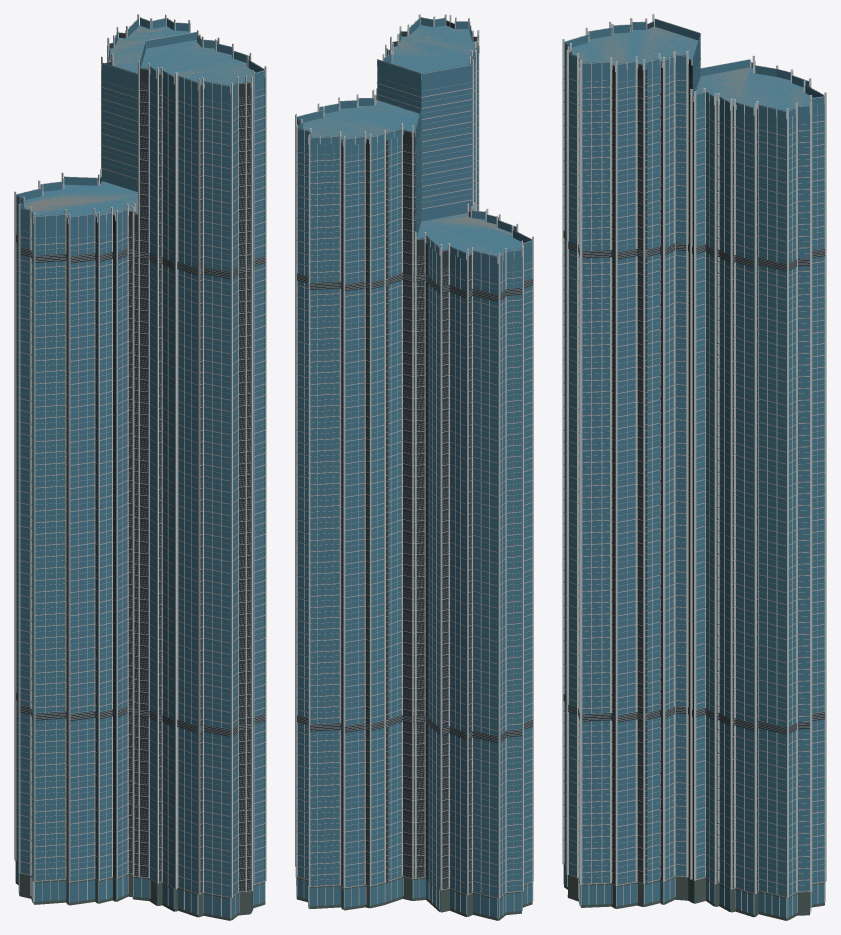
The model's file is bespoke-tower-palace-g.glb.
The picture shows the model from 3 angles, left to right: view 1: azimuth 30°, elevation 25°; view 2: azimuth 150°, elevation 25°; view 3: azimuth 270°, elevation 25°; orthographic projection. The views are drawn at different scales.
Parts seen in each view (by area): view 1: G_04_blue_glazing_and_spandrels_1, G_03_deep_vertical_blade_fins, G_04_blue_glazing_and_spandrels_3, G_02_fine_silver_horizontal_curtainwall, G_04_blue_glazing_and_spandrels_2, G_01_three_unequal_Y_blades, G_06_independent_flat_blade_terminations_4, G_06_independent_flat_blade_terminations_1, G_07_green_stone_glazed_lobby_1, G_05_reentrant_dark_louver_channels_2, G_07_green_stone_glazed_lobby_3, G_05_reentrant_dark_louver_channels_1 (+2 smaller); view 2: G_04_blue_glazing_and_spandrels_1, G_03_deep_vertical_blade_fins, G_04_blue_glazing_and_spandrels_3, G_02_fine_silver_horizontal_curtainwall, G_04_blue_glazing_and_spandrels_2, G_01_three_unequal_Y_blades, G_05_reentrant_dark_louver_channels_2, G_06_independent_flat_blade_terminations_1, G_07_green_stone_glazed_lobby_1, G_06_independent_flat_blade_terminations_4, G_05_reentrant_dark_louver_channels_1, G_07_green_stone_glazed_lobby_3 (+2 smaller); view 3: G_04_blue_glazing_and_spandrels_1, G_03_deep_vertical_blade_fins, G_02_fine_silver_horizontal_curtainwall, G_04_blue_glazing_and_spandrels_2, G_04_blue_glazing_and_spandrels_3, G_01_three_unequal_Y_blades, G_05_reentrant_dark_louver_channels_2, G_06_independent_flat_blade_terminations_4, G_06_independent_flat_blade_terminations_1, G_07_green_stone_glazed_lobby_1, G_07_green_stone_glazed_lobby_3, G_05_reentrant_dark_louver_channels_1 (+2 smaller).
Boxes of the visible parts, left/top/right/bottom form: G_04_blue_glazing_and_spandrels_1: left=16, top=25, right=264, bottom=897; G_03_deep_vertical_blade_fins: left=14, top=14, right=266, bottom=897; G_04_blue_glazing_and_spandrels_3: left=66, top=37, right=250, bottom=893; G_02_fine_silver_horizontal_curtainwall: left=16, top=81, right=265, bottom=897; G_04_blue_glazing_and_spandrels_2: left=16, top=86, right=264, bottom=897; G_01_three_unequal_Y_blades: left=21, top=25, right=258, bottom=920; G_06_independent_flat_blade_terminations_4: left=24, top=26, right=254, bottom=219; G_06_independent_flat_blade_terminations_1: left=16, top=18, right=264, bottom=223; G_07_green_stone_glazed_lobby_1: left=16, top=862, right=264, bottom=917; G_05_reentrant_dark_louver_channels_2: left=16, top=57, right=265, bottom=736; G_07_green_stone_glazed_lobby_3: left=15, top=861, right=265, bottom=920; G_05_reentrant_dark_louver_channels_1: left=16, top=236, right=264, bottom=735; G_04_blue_glazing_and_spandrels_1: left=297, top=25, right=532, bottom=896; G_03_deep_vertical_blade_fins: left=295, top=14, right=533, bottom=898; G_04_blue_glazing_and_spandrels_3: left=341, top=25, right=474, bottom=893; G_02_fine_silver_horizontal_curtainwall: left=297, top=70, right=532, bottom=898; G_04_blue_glazing_and_spandrels_2: left=297, top=69, right=532, bottom=898; G_01_three_unequal_Y_blades: left=301, top=25, right=523, bottom=920; G_05_reentrant_dark_louver_channels_2: left=297, top=140, right=532, bottom=882; G_06_independent_flat_blade_terminations_1: left=297, top=17, right=532, bottom=263; G_07_green_stone_glazed_lobby_1: left=297, top=878, right=532, bottom=917; G_06_independent_flat_blade_terminations_4: left=302, top=26, right=511, bottom=261; G_05_reentrant_dark_louver_channels_1: left=297, top=144, right=532, bottom=880; G_07_green_stone_glazed_lobby_3: left=296, top=876, right=532, bottom=920; G_04_blue_glazing_and_spandrels_1: left=564, top=26, right=824, bottom=895; G_03_deep_vertical_blade_fins: left=562, top=14, right=826, bottom=897; G_02_fine_silver_horizontal_curtainwall: left=563, top=61, right=824, bottom=897; G_04_blue_glazing_and_spandrels_2: left=564, top=58, right=824, bottom=896; G_04_blue_glazing_and_spandrels_3: left=612, top=26, right=758, bottom=891; G_01_three_unequal_Y_blades: left=572, top=26, right=823, bottom=920; G_05_reentrant_dark_louver_channels_2: left=563, top=69, right=824, bottom=883; G_06_independent_flat_blade_terminations_4: left=572, top=27, right=809, bottom=108; G_06_independent_flat_blade_terminations_1: left=564, top=19, right=824, bottom=118; G_07_green_stone_glazed_lobby_1: left=564, top=865, right=824, bottom=917; G_07_green_stone_glazed_lobby_3: left=563, top=864, right=824, bottom=920; G_05_reentrant_dark_louver_channels_1: left=563, top=76, right=824, bottom=881.
Size of the model in its own units: 67.07 by 264 by 74.47.
